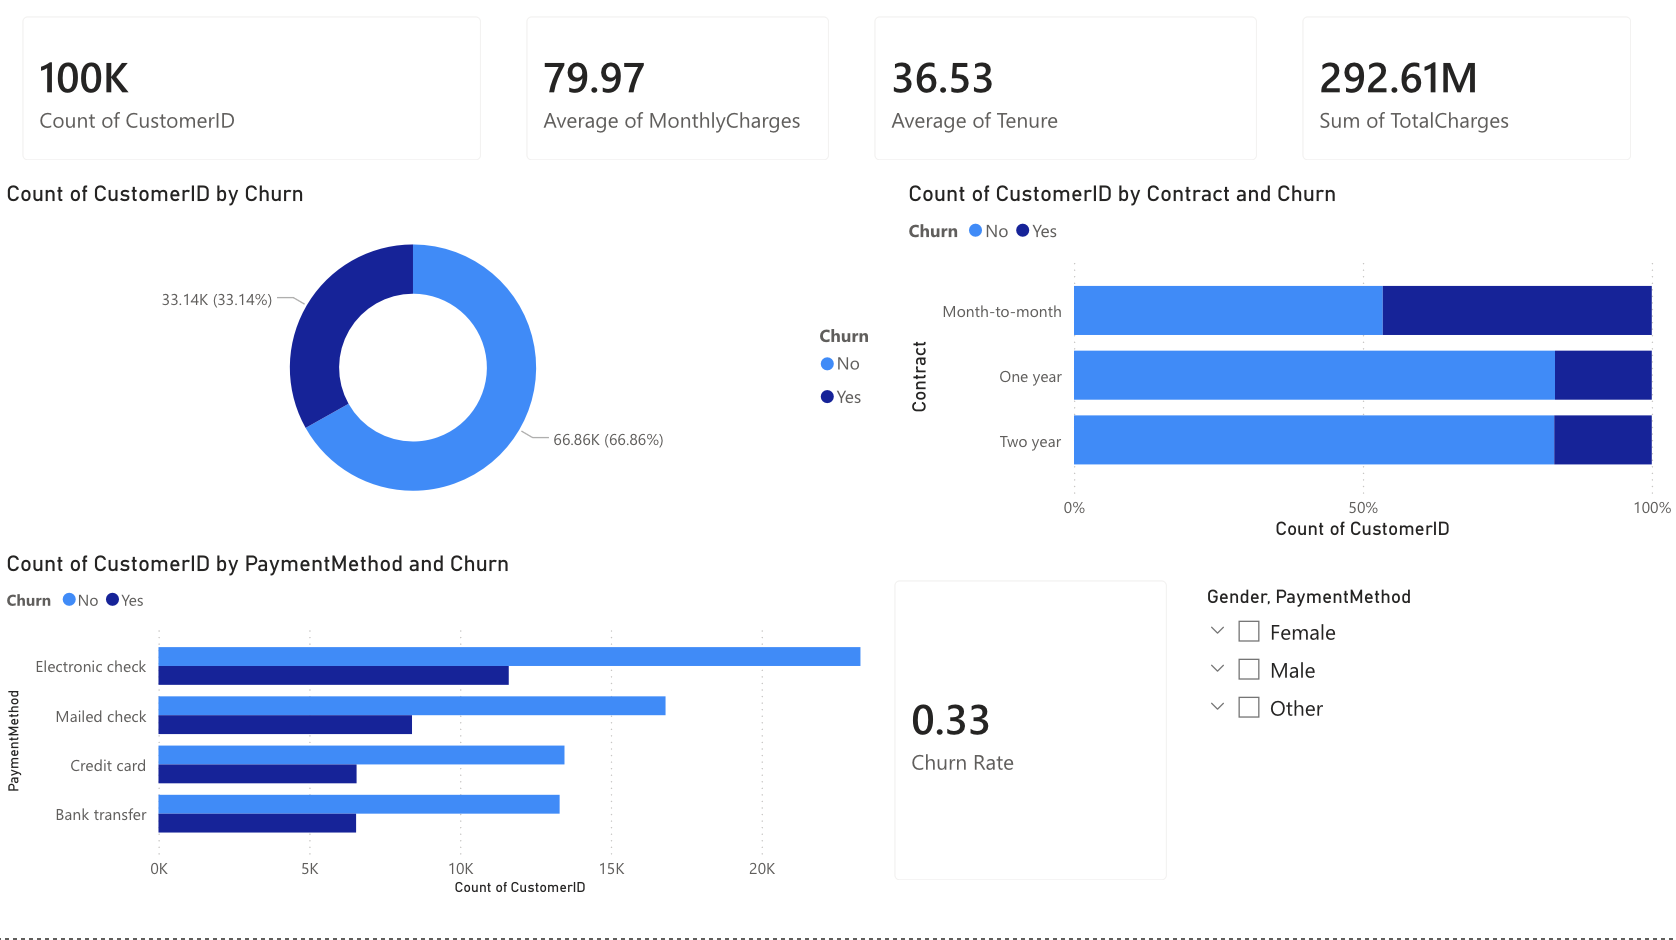

What the dashboard file says about the page in this screenshot:
{"tool":"powerbi","page":{"name":"Page 1","canvas":[1280,720],"ordinal":0},"visuals":[{"type":"cardVisual","fields":{"Data":["CountNonNull(churn 2.CustomerID)"]},"box":[0,0,384.5,144.9],"z":0},{"type":"cardVisual","fields":{"Data":["Avg(churn 2.MonthlyCharges)"]},"box":[384.5,0,265.5,144.9],"z":1},{"type":"cardVisual","fields":{"Data":["Avg(churn 2.Tenure)"]},"box":[649.9,0,326.5,144.9],"z":2},{"type":"cardVisual","fields":{"Data":["Sum(churn 2.TotalCharges)"]},"box":[976.4,0,285.3,144.9],"z":3},{"type":"donutChart","fields":{"Category":["churn 2.Churn"],"Y":["CountNonNull(churn 2.CustomerID)"]},"box":[0,144.9,688.1,265.5],"z":4},{"type":"hundredPercentStackedBarChart","fields":{"Category":["churn 2.Contract"],"Series":["churn 2.Churn"],"Y":["CountNonNull(churn 2.CustomerID)"]},"box":[688.1,144.9,591.9,274.6],"z":5},{"type":"clusteredBarChart","fields":{"Category":["churn 2.PaymentMethod"],"Series":["churn 2.Churn"],"Y":["CountNonNull(churn 2.CustomerID)"]},"box":[0,427.5,688,265],"z":6},{"type":"cardVisual","fields":{"Data":["churn 2.Churn Rate"]},"box":[665.2,430.2,242.6,263.9],"z":7},{"type":"slicer","fields":{"Values":["churn 2.Gender","churn 2.PaymentMethod"]},"box":[907.8,448.5,372.2,244.1],"z":8}]}

Visuals, with their boxes in screenshot pixels (x1, y1, x2, y2), scaled from the page's 1280x720 canvas onto the 1676x940 screenshot:
cardVisual - CountNonNull(churn 2.CustomerID): bbox(0, 0, 503, 189)
cardVisual - Avg(churn 2.MonthlyCharges): bbox(503, 0, 851, 189)
cardVisual - Avg(churn 2.Tenure): bbox(851, 0, 1278, 189)
cardVisual - Sum(churn 2.TotalCharges): bbox(1278, 0, 1652, 189)
donutChart - churn 2.Churn x CountNonNull(churn 2.CustomerID): bbox(0, 189, 901, 536)
hundredPercentStackedBarChart - churn 2.Contract x churn 2.Churn: bbox(901, 189, 1675, 548)
clusteredBarChart - churn 2.PaymentMethod x churn 2.Churn: bbox(0, 558, 901, 904)
cardVisual - churn 2.Churn Rate: bbox(871, 562, 1189, 906)
slicer - churn 2.Gender x churn 2.PaymentMethod: bbox(1189, 586, 1675, 904)
